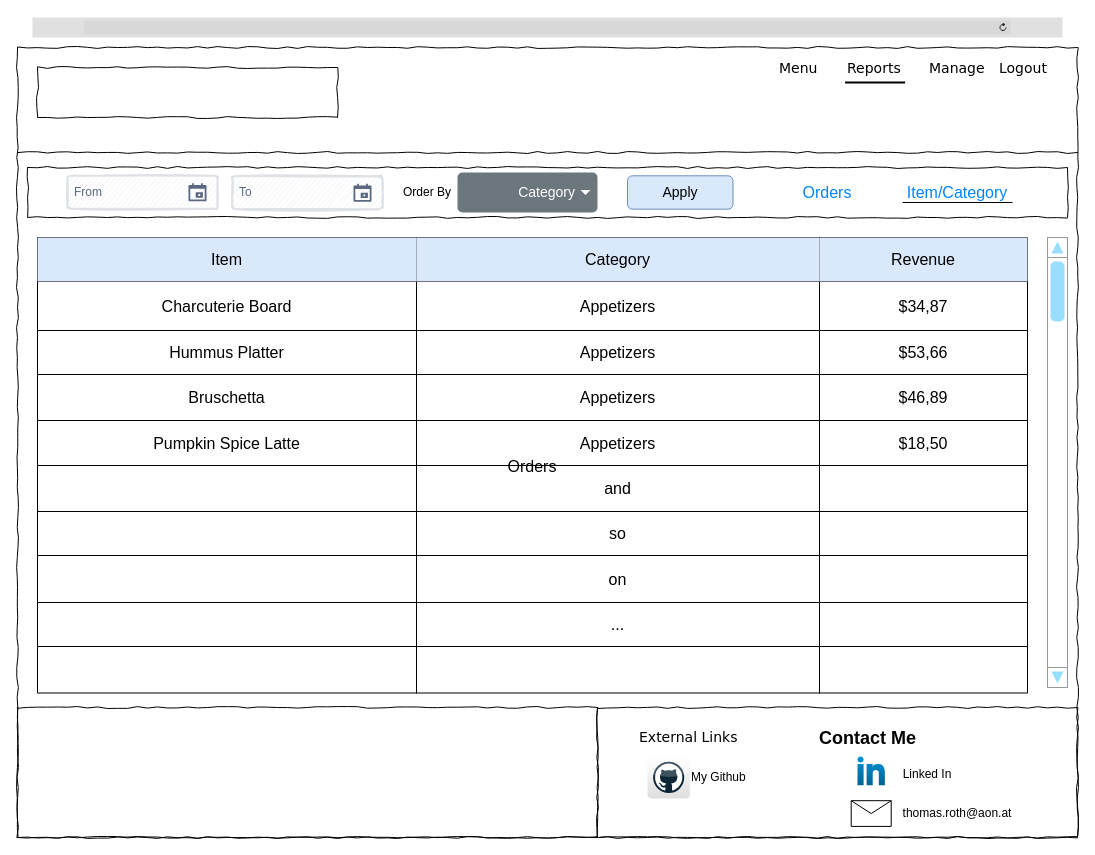
The diagram is 1095 pixels wide and 855 high, and some of its shapes have lost their labels. The centre of each missing label's shape, as x and y in pixels:
"4th Wall Cafe" goes at pixel 187 92.
"4thWallCafe/Reports/Items" goes at pixel 547 27.
"by Thomas Roth" goes at pixel 307 772.
